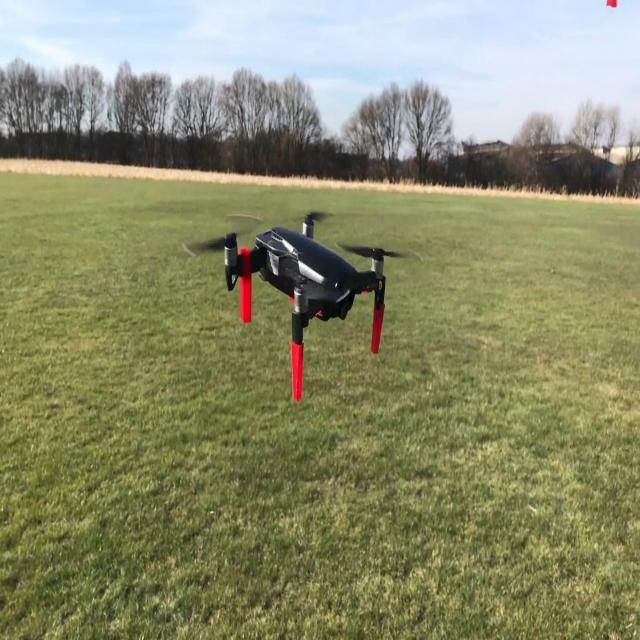drone: (214, 206, 393, 400)
